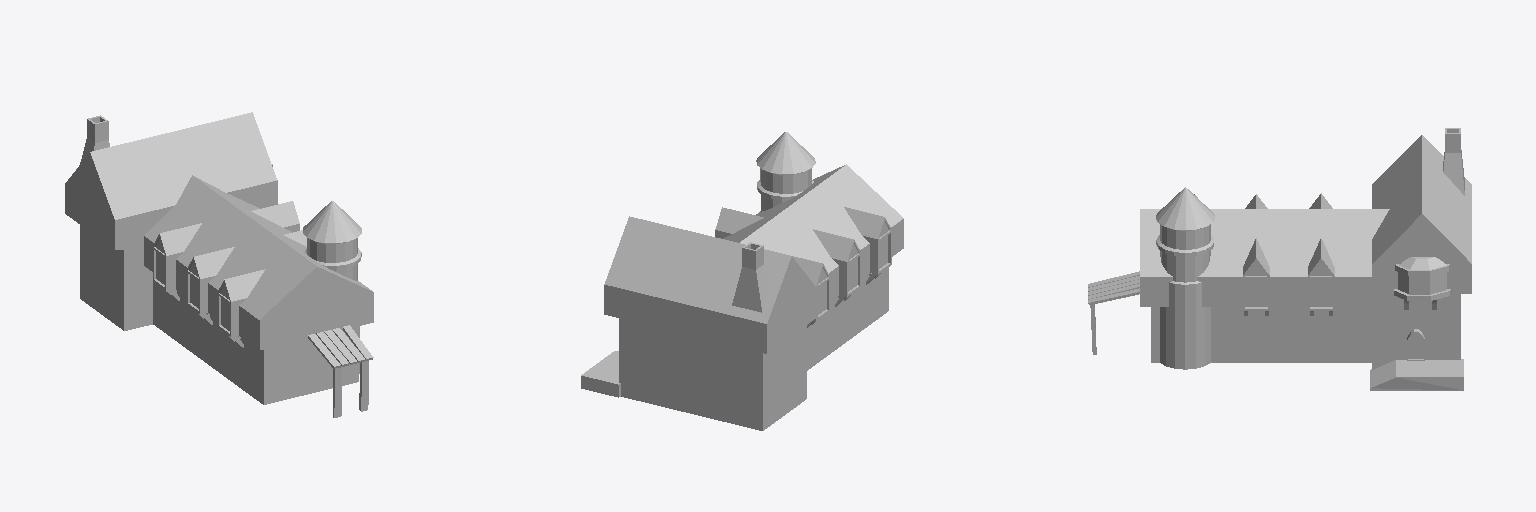
Rendered from kastely.obj.
3 views of the same model, side by side, from view 1: azimuth 30°, elevation 25°; view 2: azimuth 150°, elevation 25°; view 3: azimuth 270°, elevation 25° (orthographic).
Visible parts, largest first — view 1: Cube.027_Cube.034; view 2: Cube.027_Cube.034; view 3: Cube.027_Cube.034.
Boxes of the visible parts, box(x1,y1,x2,y2) form: Cube.027_Cube.034: box(65, 112, 373, 417); Cube.027_Cube.034: box(581, 132, 903, 430); Cube.027_Cube.034: box(1088, 128, 1471, 390).
Size of the model in its own units: 19.84 by 18.01 by 34.73.